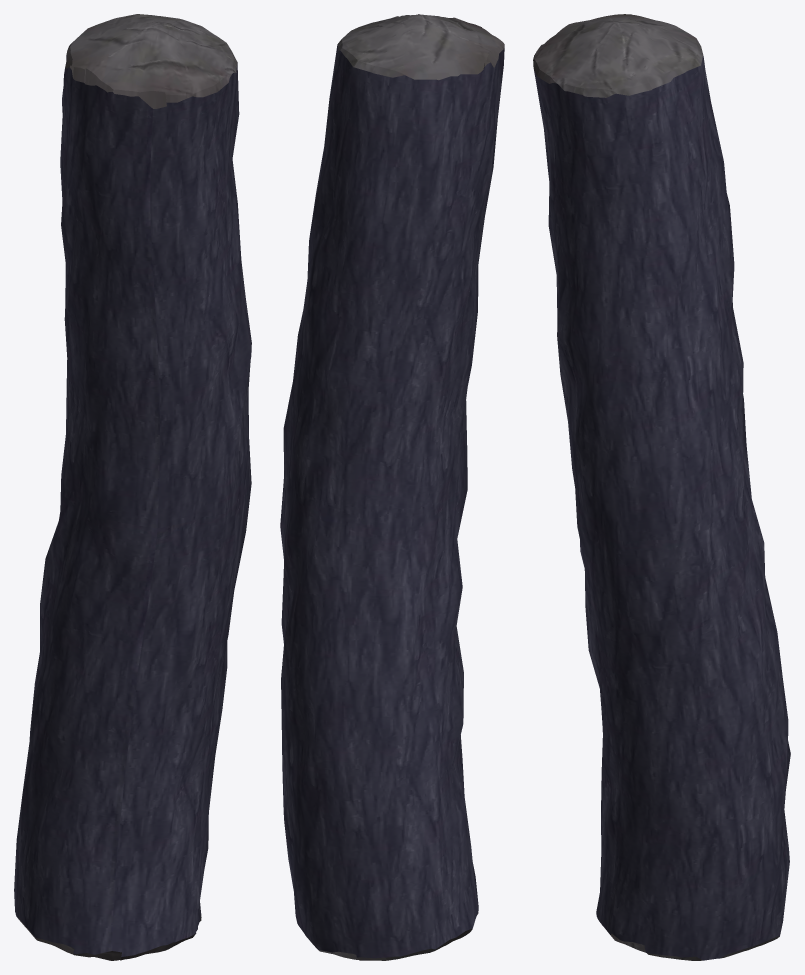
The picture shows the model from 3 angles, left to right: view 1: azimuth 30°, elevation 25°; view 2: azimuth 150°, elevation 25°; view 3: azimuth 270°, elevation 25°; orthographic projection. The views are drawn at different scales.
Visible parts, largest first — view 1: SM_Willow_02_tree_quarters_bottom_LOD0; view 2: SM_Willow_02_tree_quarters_bottom_LOD0; view 3: SM_Willow_02_tree_quarters_bottom_LOD0.
Boxes of the visible parts, x1,y1,x2,y2 form: SM_Willow_02_tree_quarters_bottom_LOD0: (14, 14, 251, 960); SM_Willow_02_tree_quarters_bottom_LOD0: (280, 14, 504, 960); SM_Willow_02_tree_quarters_bottom_LOD0: (533, 14, 790, 960).
Size of the model in its own units: 1.13 by 5.23 by 1.32.
